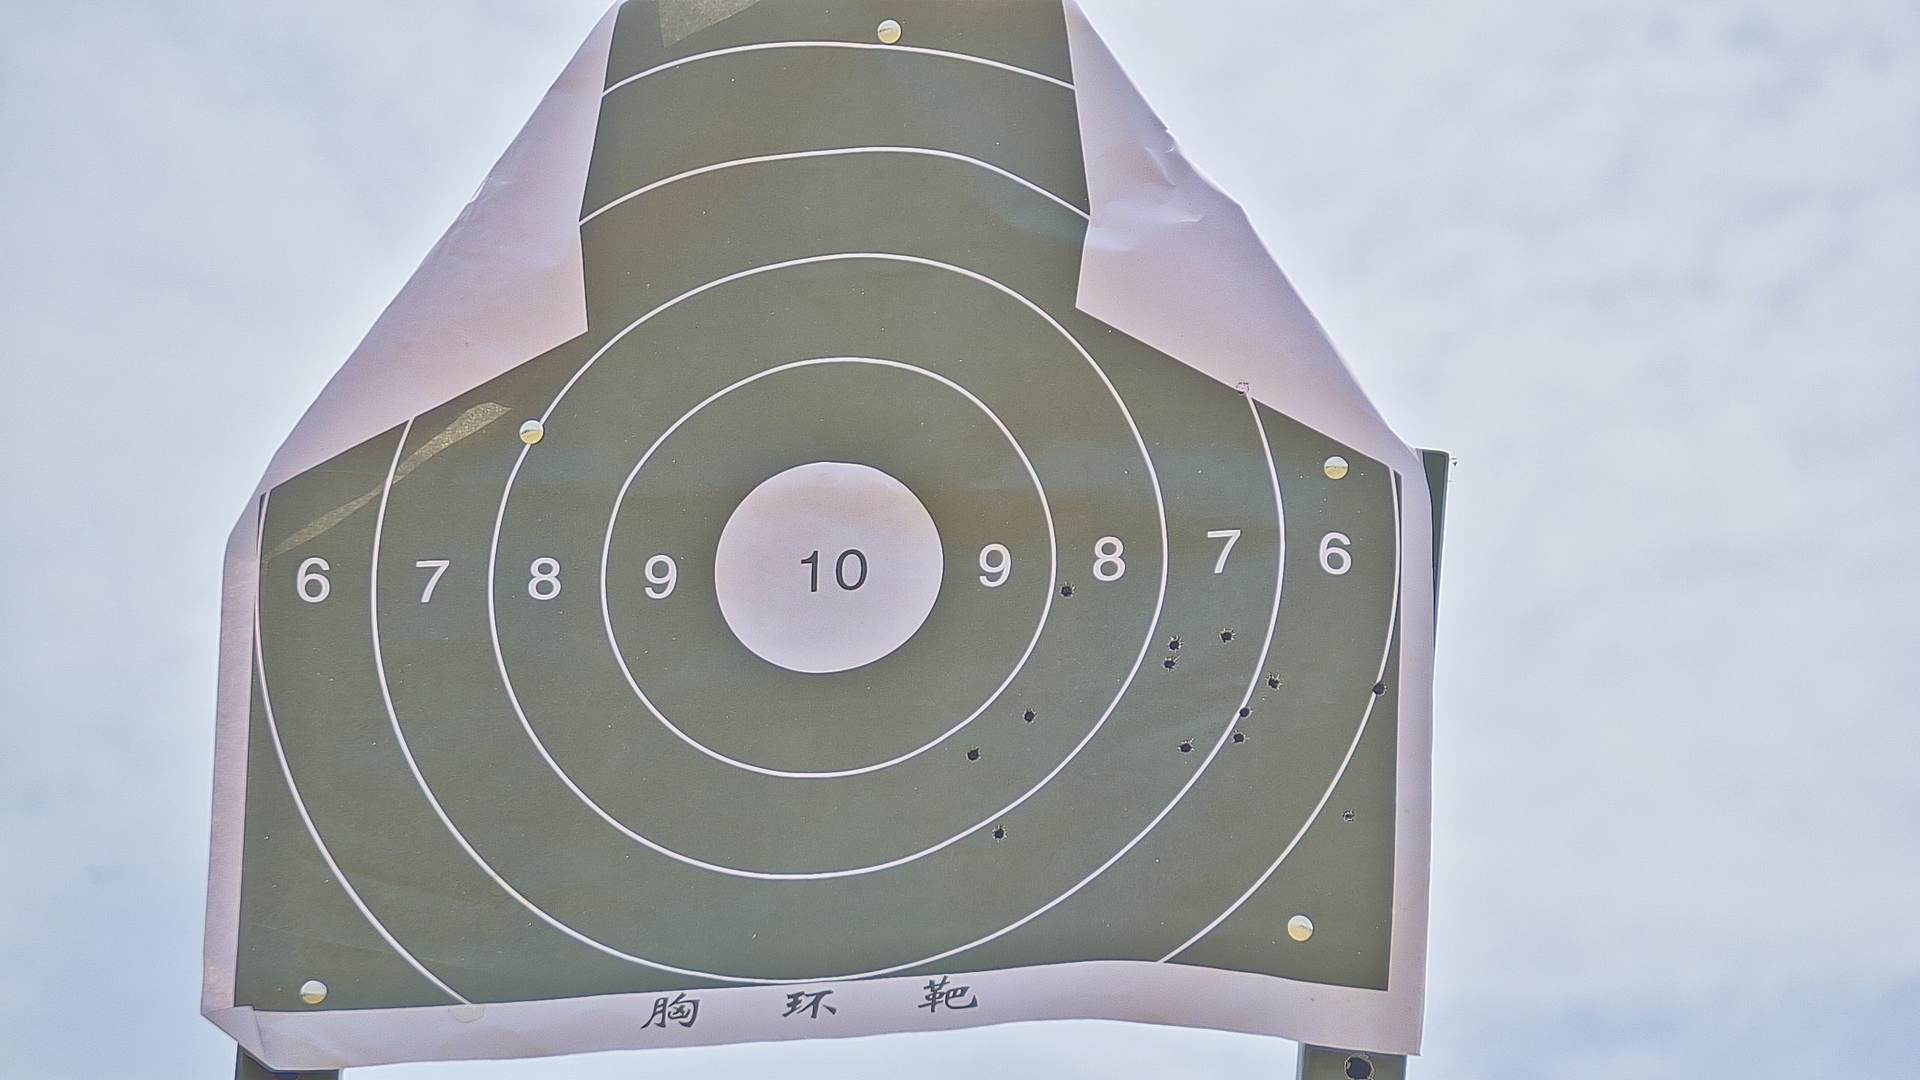hole: (992, 825, 1009, 843), (1168, 636, 1184, 651), (967, 746, 982, 761), (1179, 738, 1193, 753), (1218, 629, 1234, 642), (1232, 731, 1247, 744), (1340, 808, 1356, 822), (1060, 583, 1073, 597), (1269, 674, 1280, 690), (1237, 705, 1253, 717), (1164, 658, 1178, 671), (1371, 683, 1386, 694), (1025, 709, 1035, 723)
kernel: (823, 568, 828, 574)
target: (236, 3, 1396, 1001)
ten: (713, 460, 942, 675)
